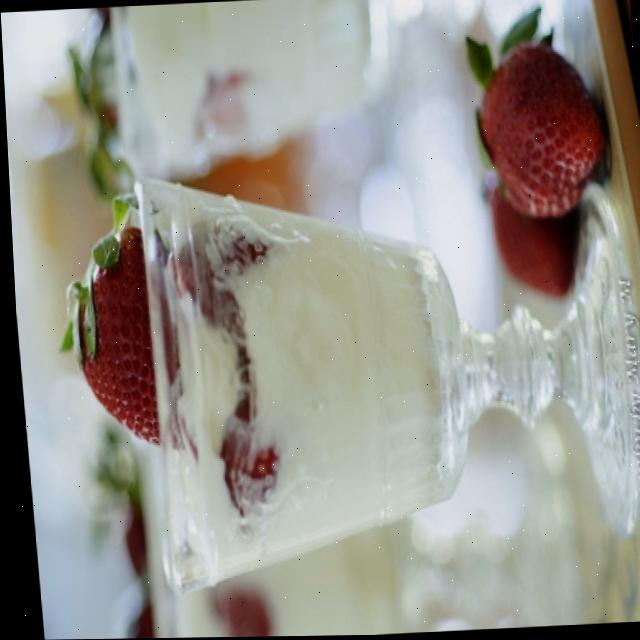蛋糕甜品: (5, 3, 640, 623)
